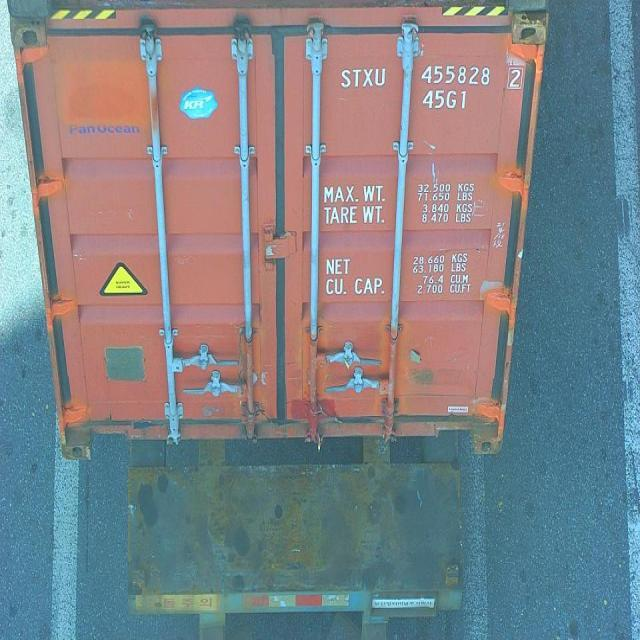ISO: (422, 89, 470, 111)
container_number: (344, 64, 514, 88)
